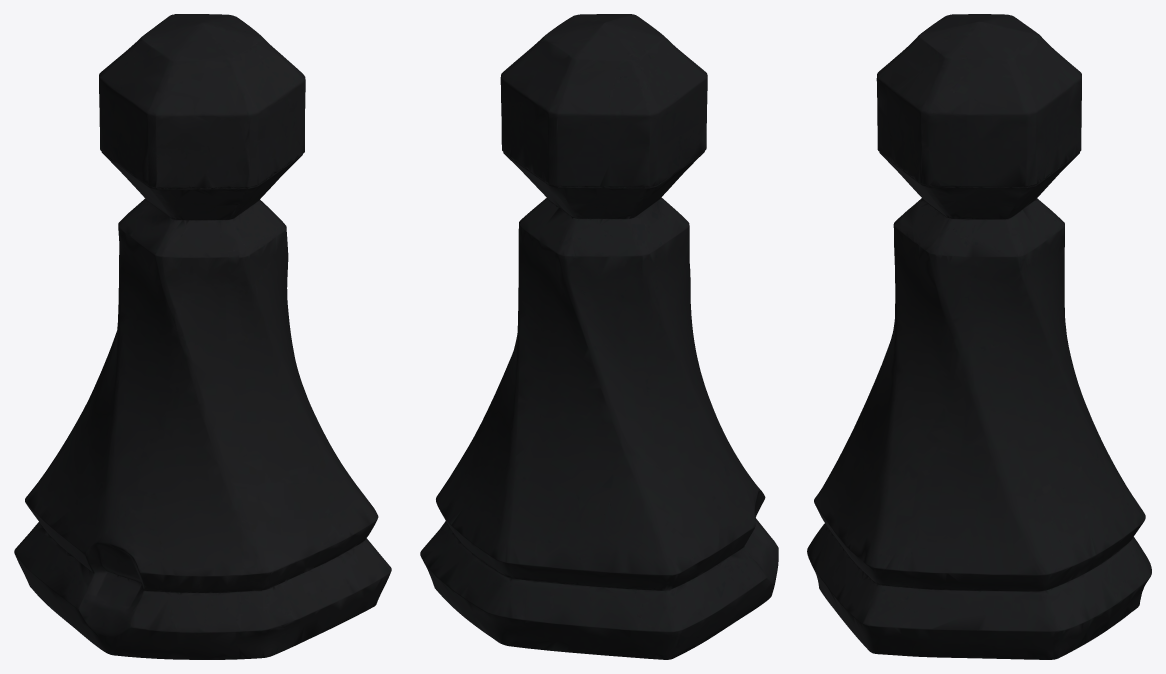
File: pawn-black-hd.glb
3 views of the same model, side by side, from view 1: azimuth 30°, elevation 25°; view 2: azimuth 150°, elevation 25°; view 3: azimuth 270°, elevation 25° (orthographic).
Bounding box in the file's own units: 0.5022 × 0.95 × 0.5174.
1 material, 1 textured.
